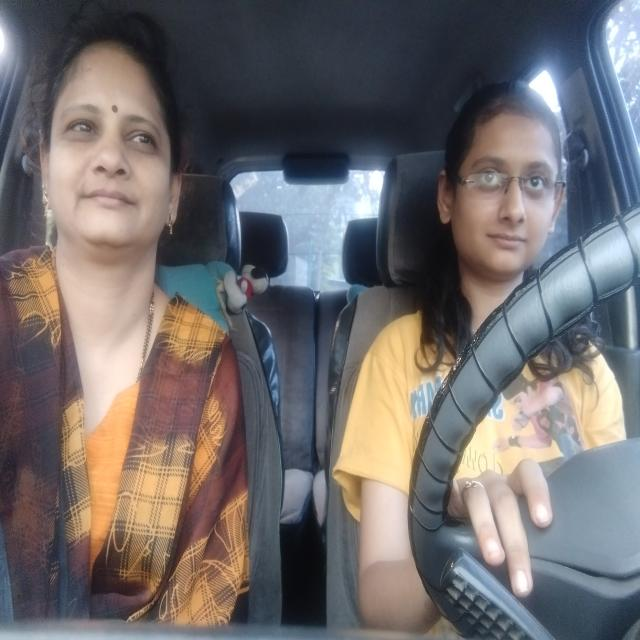person: (29, 29, 194, 291), (433, 73, 577, 307)
